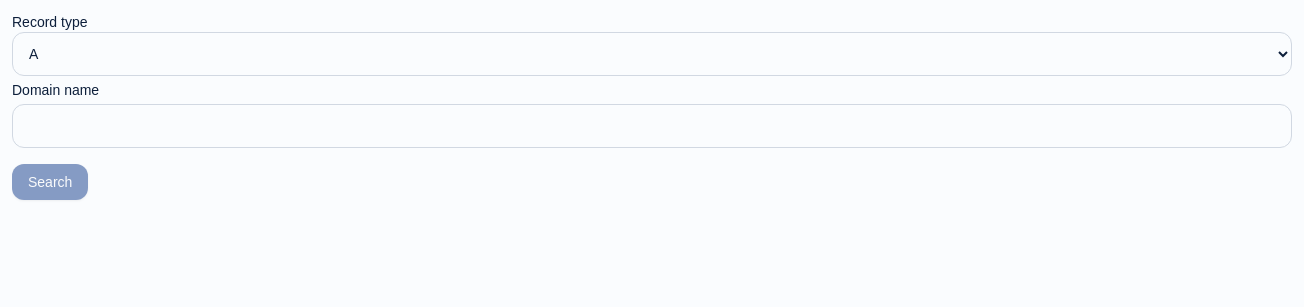
browser lookup hardening › reuses DNS results but separates record types
Later steps or results of the test are not shown.
Type " Example.COM " into the field. click: x=652, y=126
box: [12,104,1292,148]
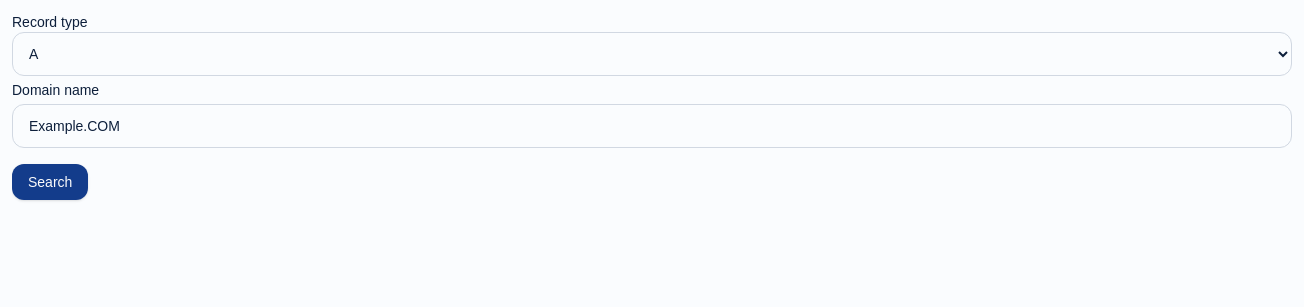
Click the button "Search". click: x=50, y=182
box: [12,164,88,200]
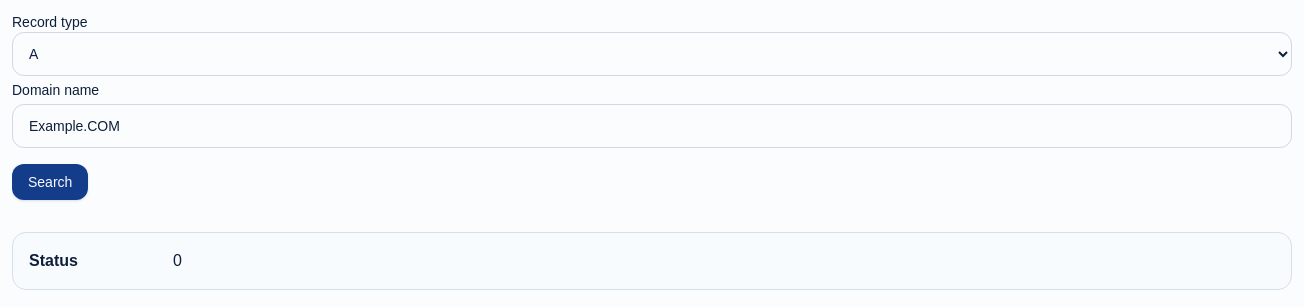
Now the button "Search" is enabled, box [12,164,88,200]
Replace the text in the field with "example.com". click: x=652, y=126
box: [12,104,1292,148]
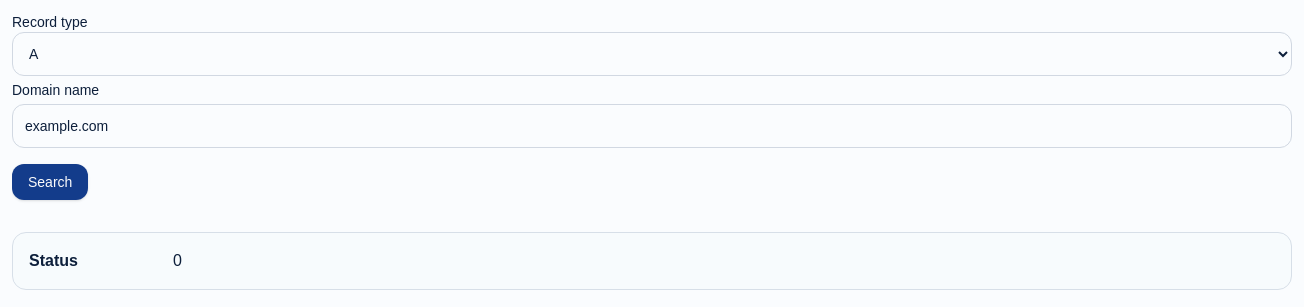
Click the button "Search". click: x=50, y=182
box: [12,164,88,200]
Now the button "Search" is enabled, box [12,164,88,200]
